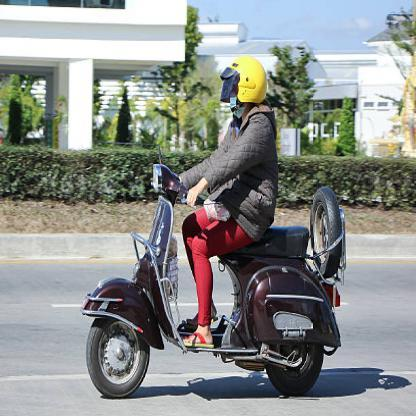Motorcycle: (81, 143, 342, 401)
